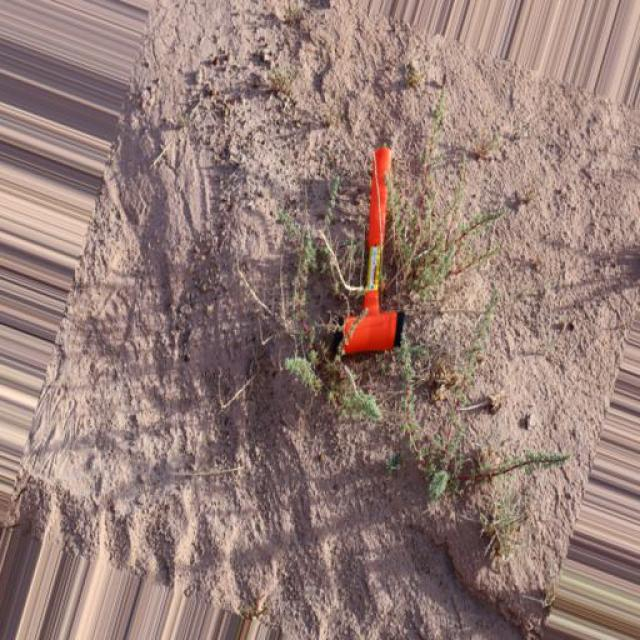mallet: (342, 144, 406, 355)
